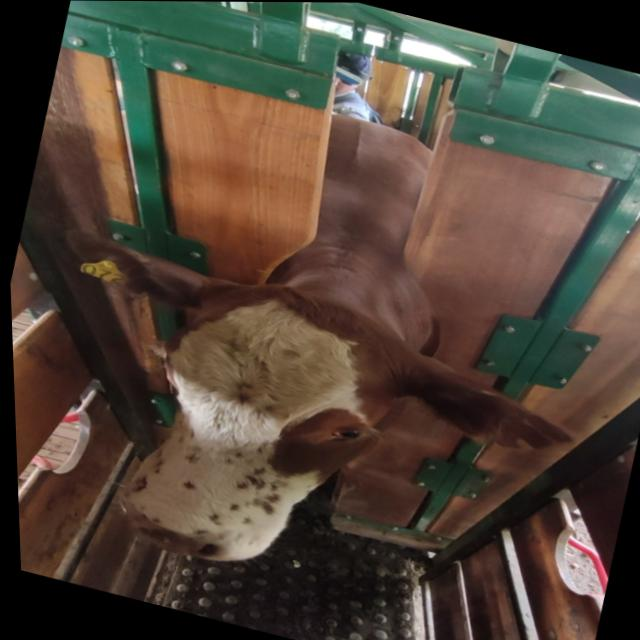cowFace: (106, 262, 407, 591)
